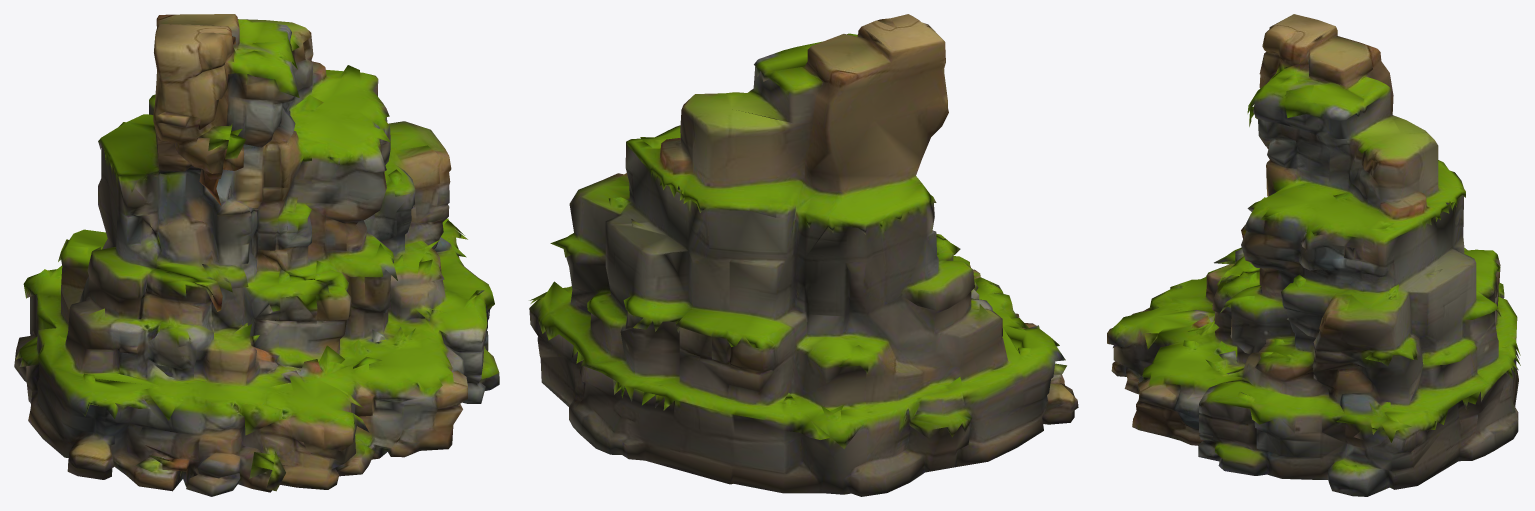
3 views of the same model, side by side, from view 1: azimuth 30°, elevation 25°; view 2: azimuth 150°, elevation 25°; view 3: azimuth 270°, elevation 25° (orthographic). The views are drawn at different scales.
Parts seen in each view (by area): view 1: tripo_node_7f002ea0-220b-4cf7-84b7-ab75da891a54; view 2: tripo_node_7f002ea0-220b-4cf7-84b7-ab75da891a54; view 3: tripo_node_7f002ea0-220b-4cf7-84b7-ab75da891a54.
Boxes of the visible parts, left/top/right/bottom form: tripo_node_7f002ea0-220b-4cf7-84b7-ab75da891a54: left=14, top=14, right=499, bottom=496; tripo_node_7f002ea0-220b-4cf7-84b7-ab75da891a54: left=529, top=14, right=1078, bottom=496; tripo_node_7f002ea0-220b-4cf7-84b7-ab75da891a54: left=1107, top=14, right=1520, bottom=496.
Size of the model in its own units: 1 by 0.773 by 0.8708.
Materials: 1 (1 with a texture image).
